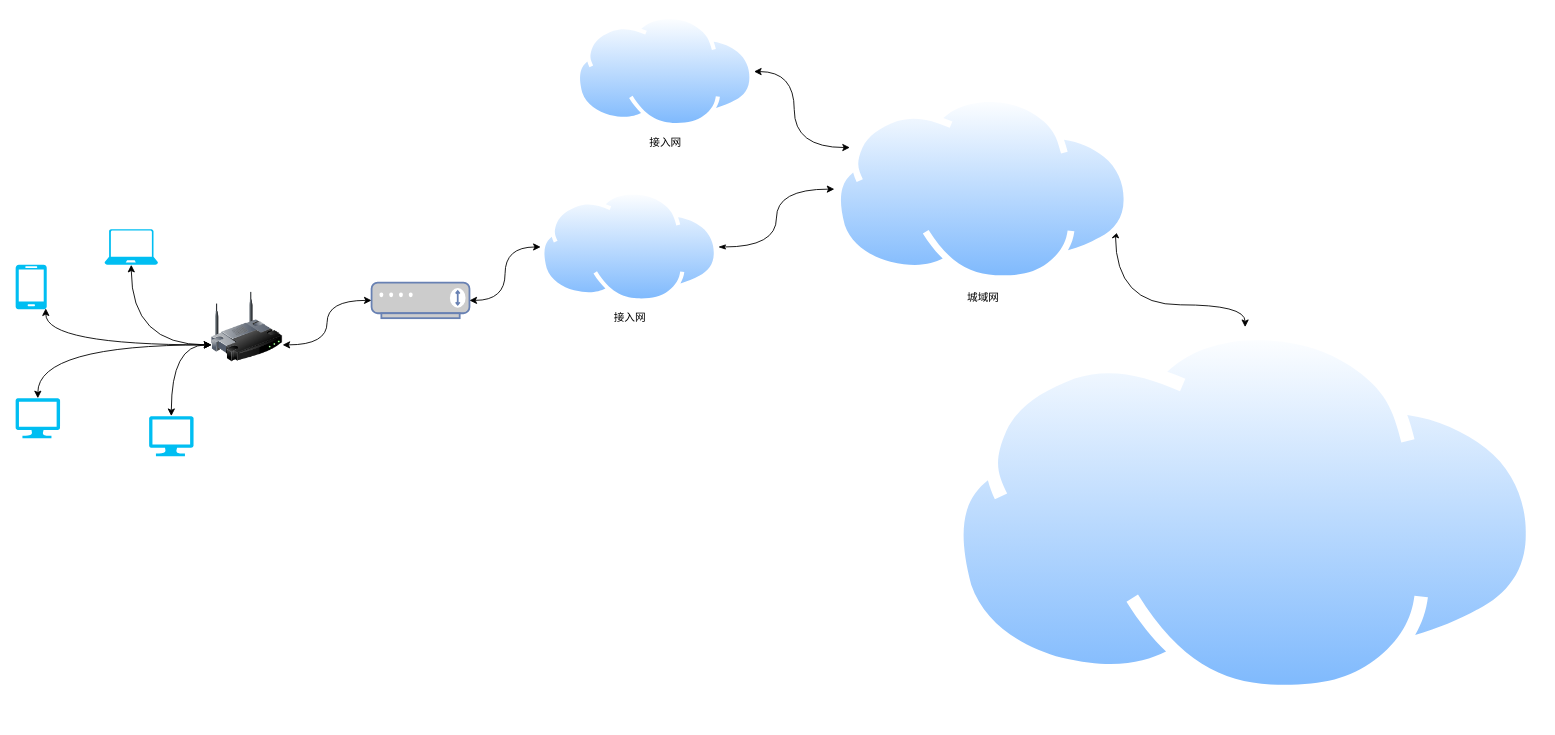
Some shapes in this 1555 by 735 pixel diagram are drawn without their labels. The shapes that lost their labels are listed below. From the top down, each one's centre as x and y in pixels, then its label:
At point 420,300: "光猫".
At point 1245,512: "骨干网".
